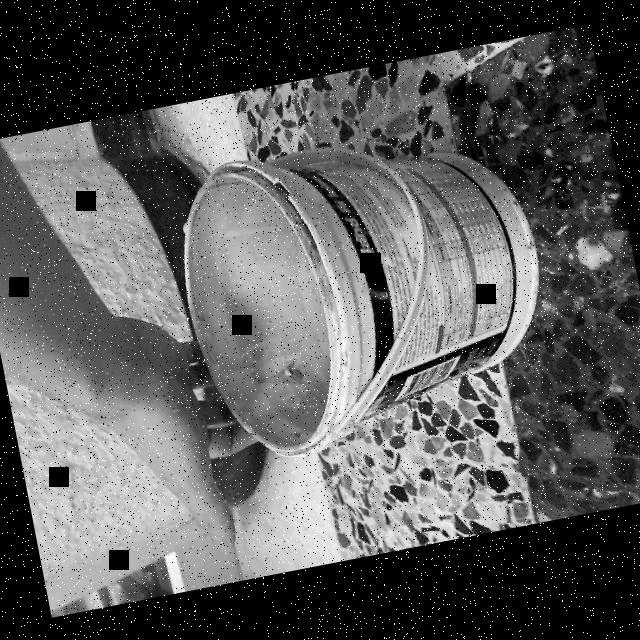paint_bucket: (155, 104, 567, 474)
